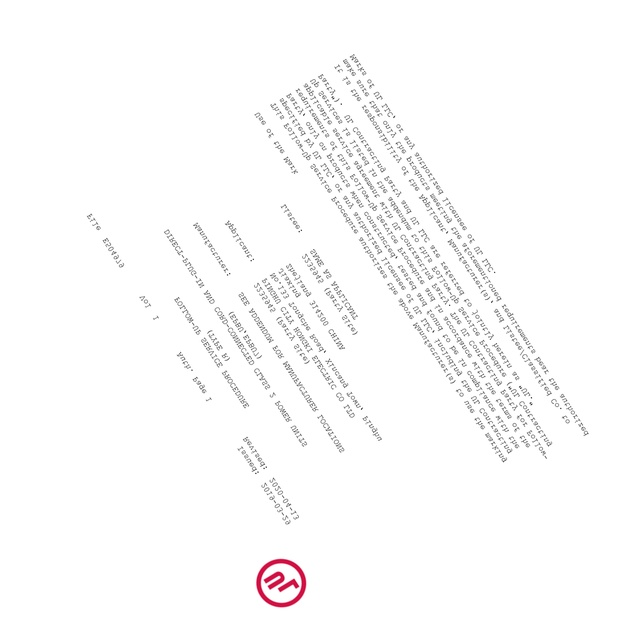ul: (255, 556, 308, 609)
